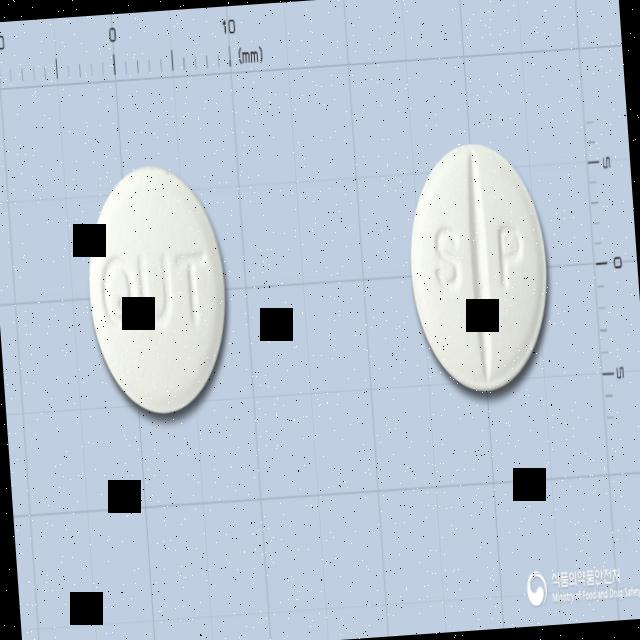Qupron Tab: (80, 160, 236, 420), (402, 137, 556, 400)
